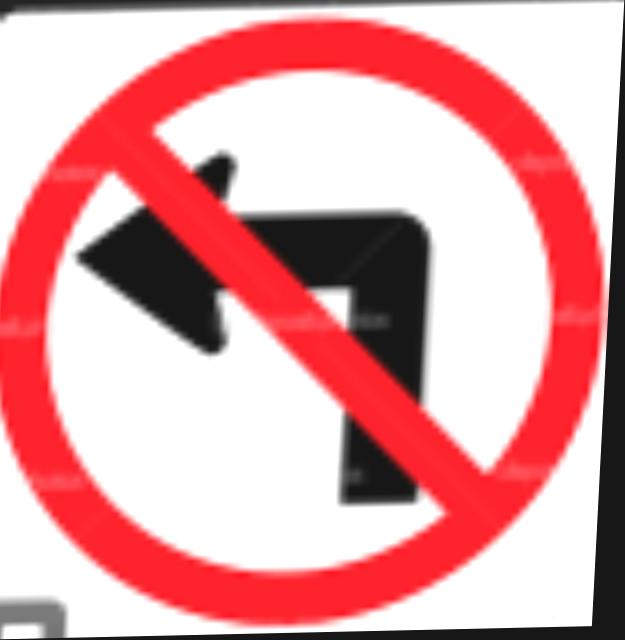not_turn_left: (0, 25, 621, 630)
